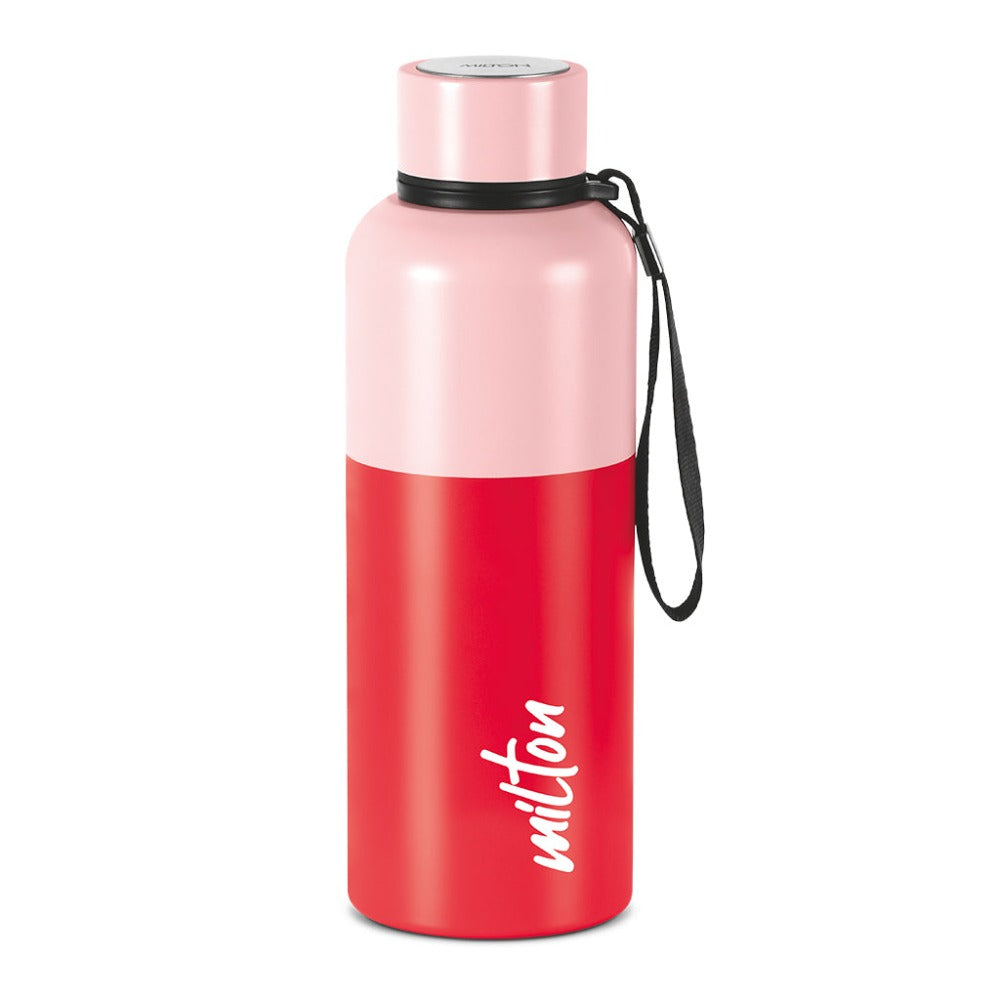bottle: (327, 22, 694, 950)
